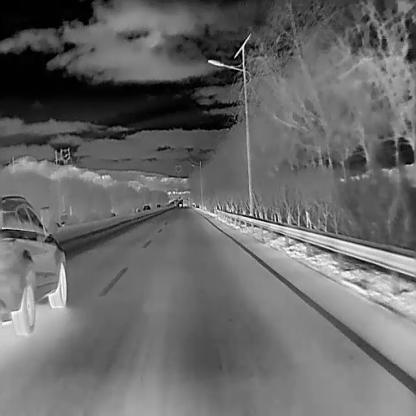car: (0, 193, 68, 338), (143, 204, 152, 211), (182, 198, 188, 208), (156, 203, 161, 208), (178, 203, 182, 208)
